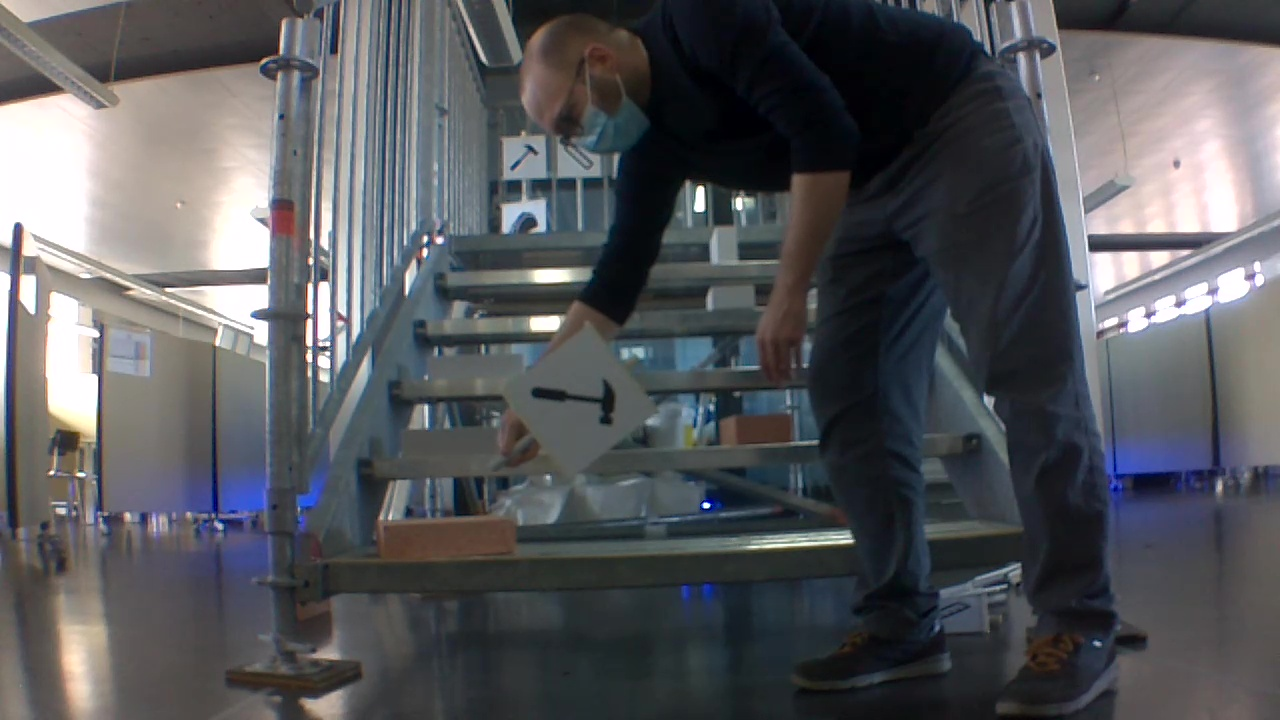brick: (378, 515, 515, 559), (404, 426, 498, 458), (719, 413, 792, 446), (429, 352, 522, 377), (704, 286, 753, 310), (709, 228, 738, 262)
hammer: (507, 141, 542, 171)
taco: (506, 205, 540, 231)
